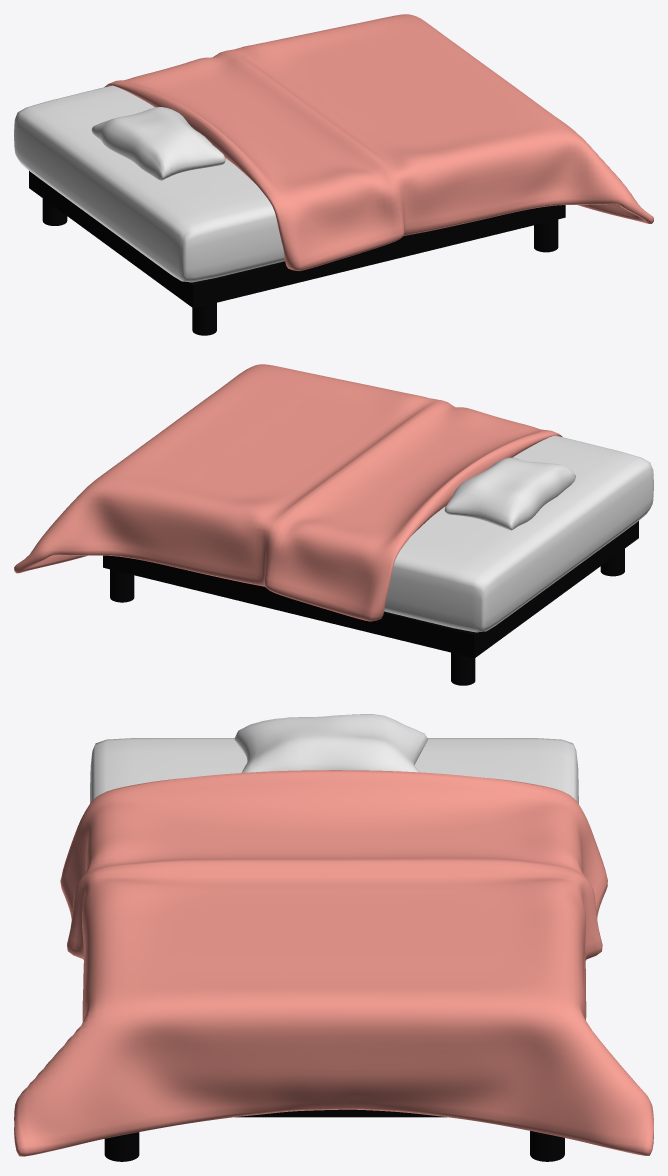
File: Bed.fbx
The picture shows the model from 3 angles, top to bottom: view 1: azimuth 30°, elevation 25°; view 2: azimuth 150°, elevation 25°; view 3: azimuth 270°, elevation 25°; orthographic projection. The views are drawn at different scales.
Parts seen in each view (by area): view 1: Plane, Cube.001, Cylinder.002; view 2: Plane, Cube.001, Cylinder.002; view 3: Plane, Cube.001, Cylinder.002.
Boxes of the visible parts, x1=… form: Plane: x1=104, y1=14, x2=653, y2=270; Cube.001: x1=14, y1=85, x2=284, y2=282; Cylinder.002: x1=29, y1=171, x2=565, y2=335; Plane: x1=14, y1=364, x2=562, y2=621; Cube.001: x1=384, y1=435, x2=653, y2=632; Cylinder.002: x1=103, y1=521, x2=638, y2=685; Plane: x1=14, y1=770, x2=653, y2=1156; Cube.001: x1=90, y1=714, x2=578, y2=803; Cylinder.002: x1=104, y1=1109, x2=564, y2=1161.
Size of the model in its own units: 1495 by 471 by 1305.
